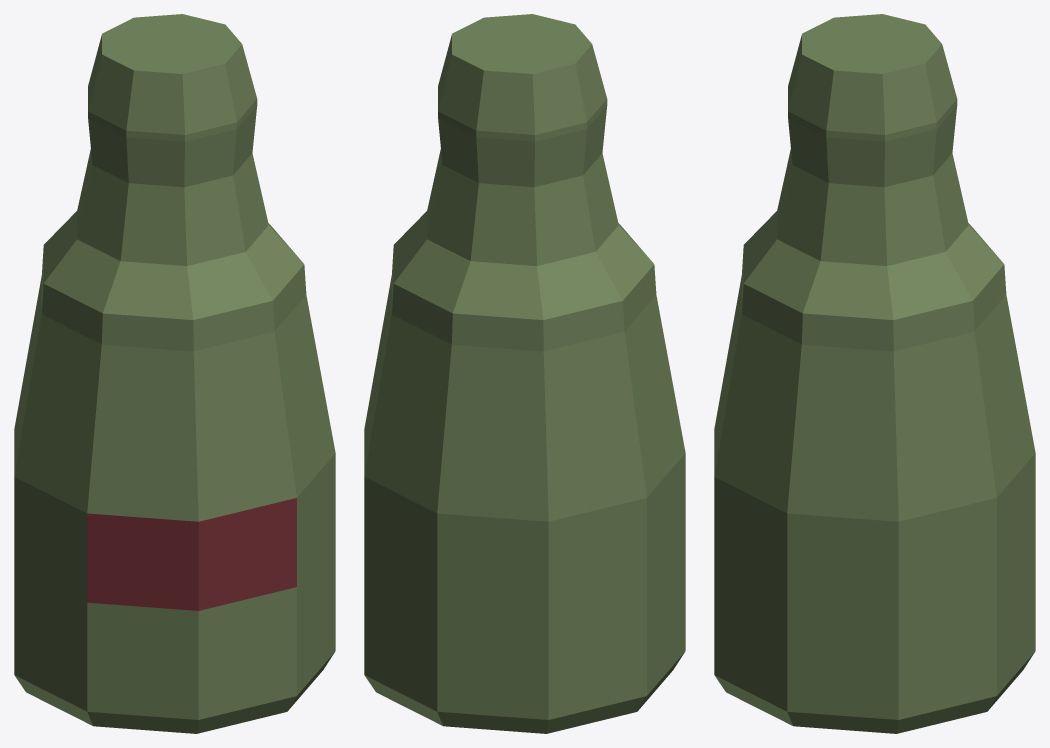
The model's file is collection_basic_beer_bottle.glb.
3 renders of one model, left to right at view 1: azimuth 30°, elevation 25°; view 2: azimuth 150°, elevation 25°; view 3: azimuth 270°, elevation 25°, orthographic.
Parts seen in each view (by area): view 1: Cylinder; view 2: Cylinder; view 3: Cylinder.
Part boxes in pixels (left/top/right/bottom): Cylinder: left=14, top=14, right=335, bottom=733; Cylinder: left=364, top=14, right=685, bottom=733; Cylinder: left=714, top=14, right=1035, bottom=733.
Size of the model in its own units: 0.1324 by 0.2804 by 0.1304.
